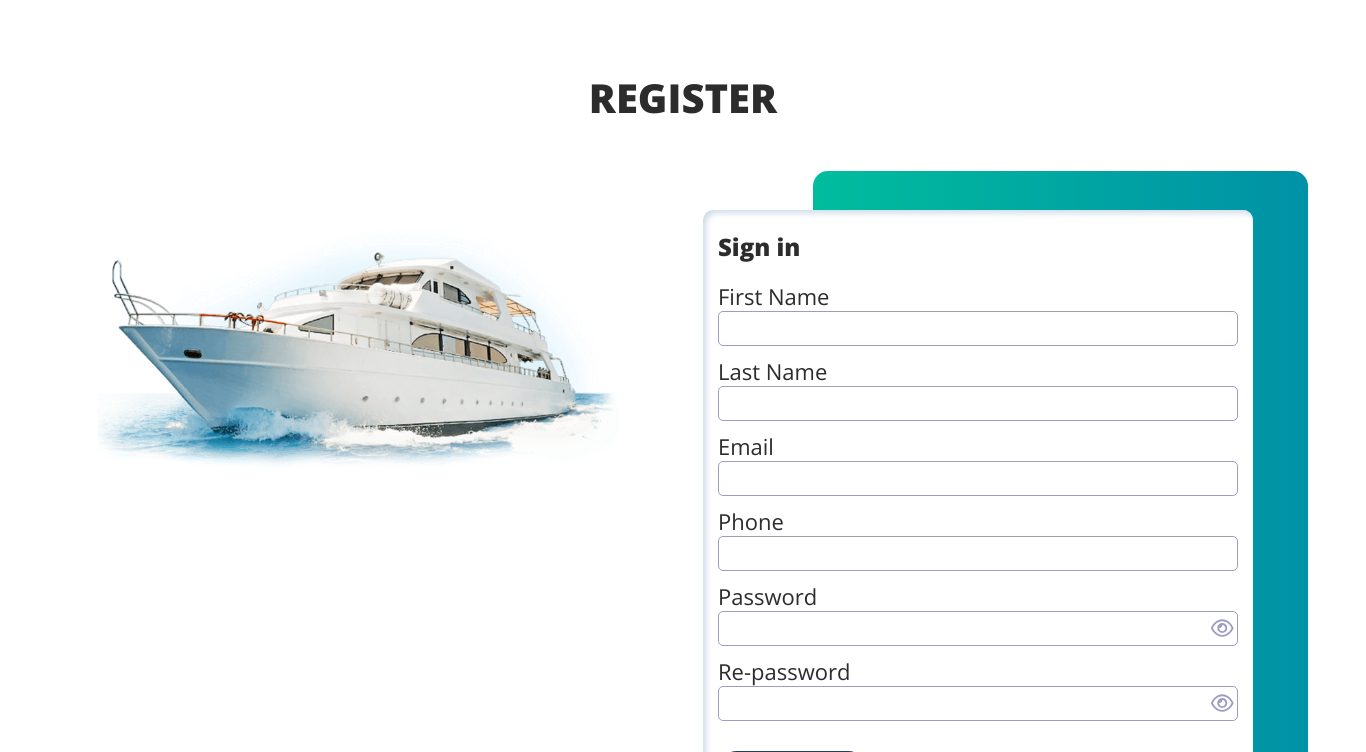
Test: Register › Should show password error
In the password field with test id "password": (978, 628) [718,611,1238,646], type "123"
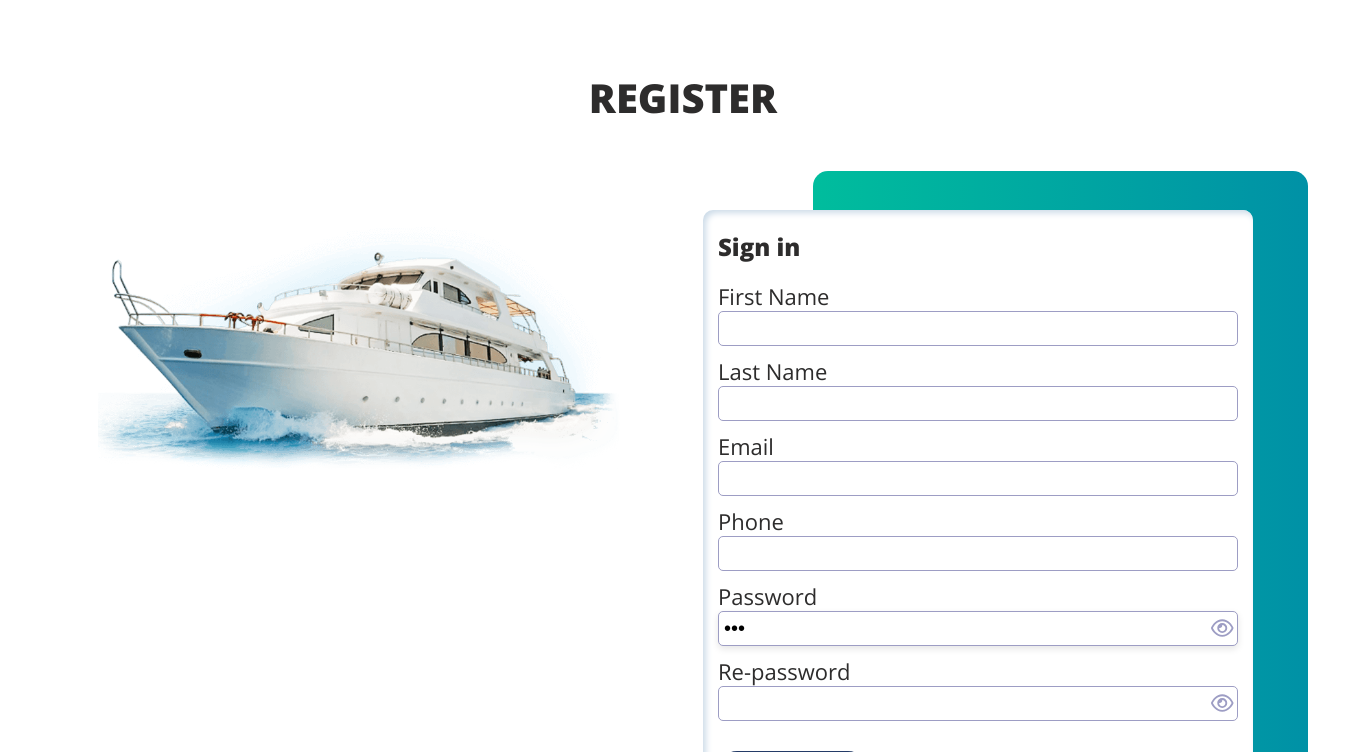
Click the field with test id "email": (978, 478) [718,461,1238,496]
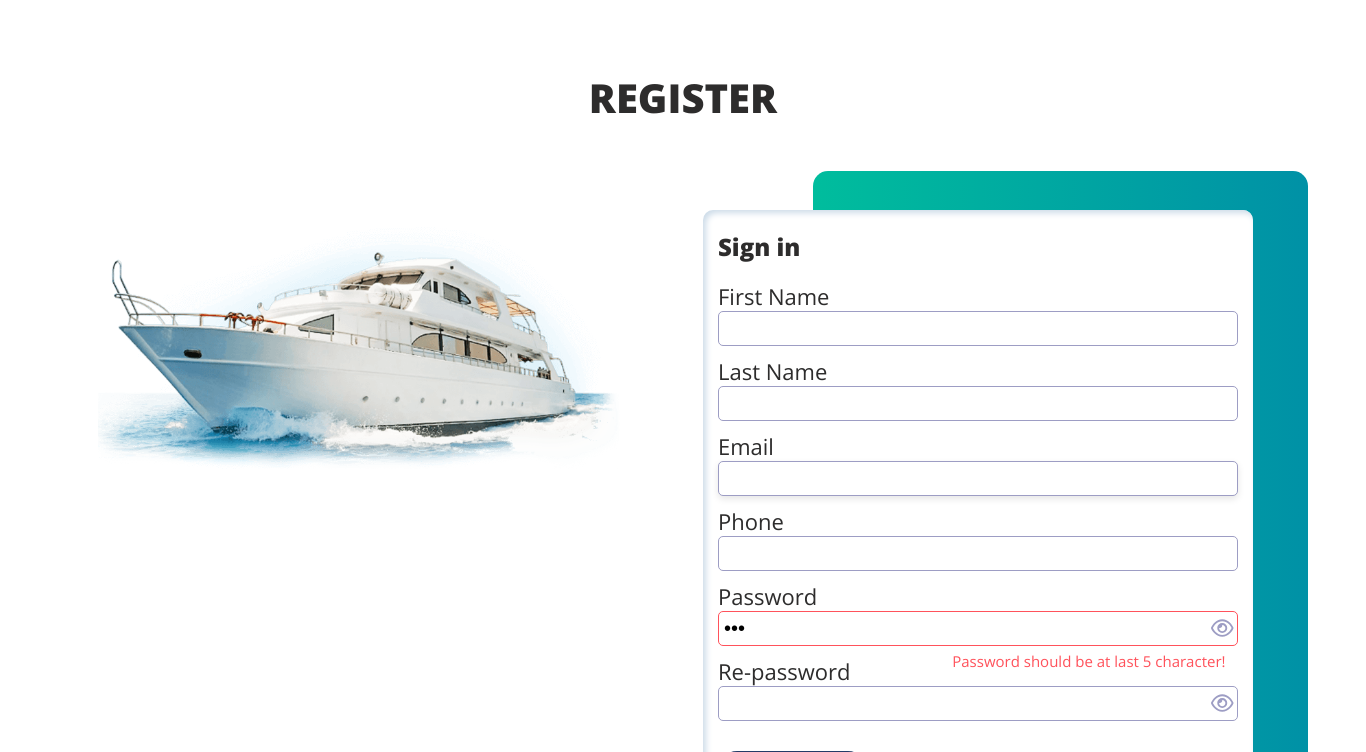
Result: the text "Password should be at last 5 character!" is shown at [952,651,1226,671]
